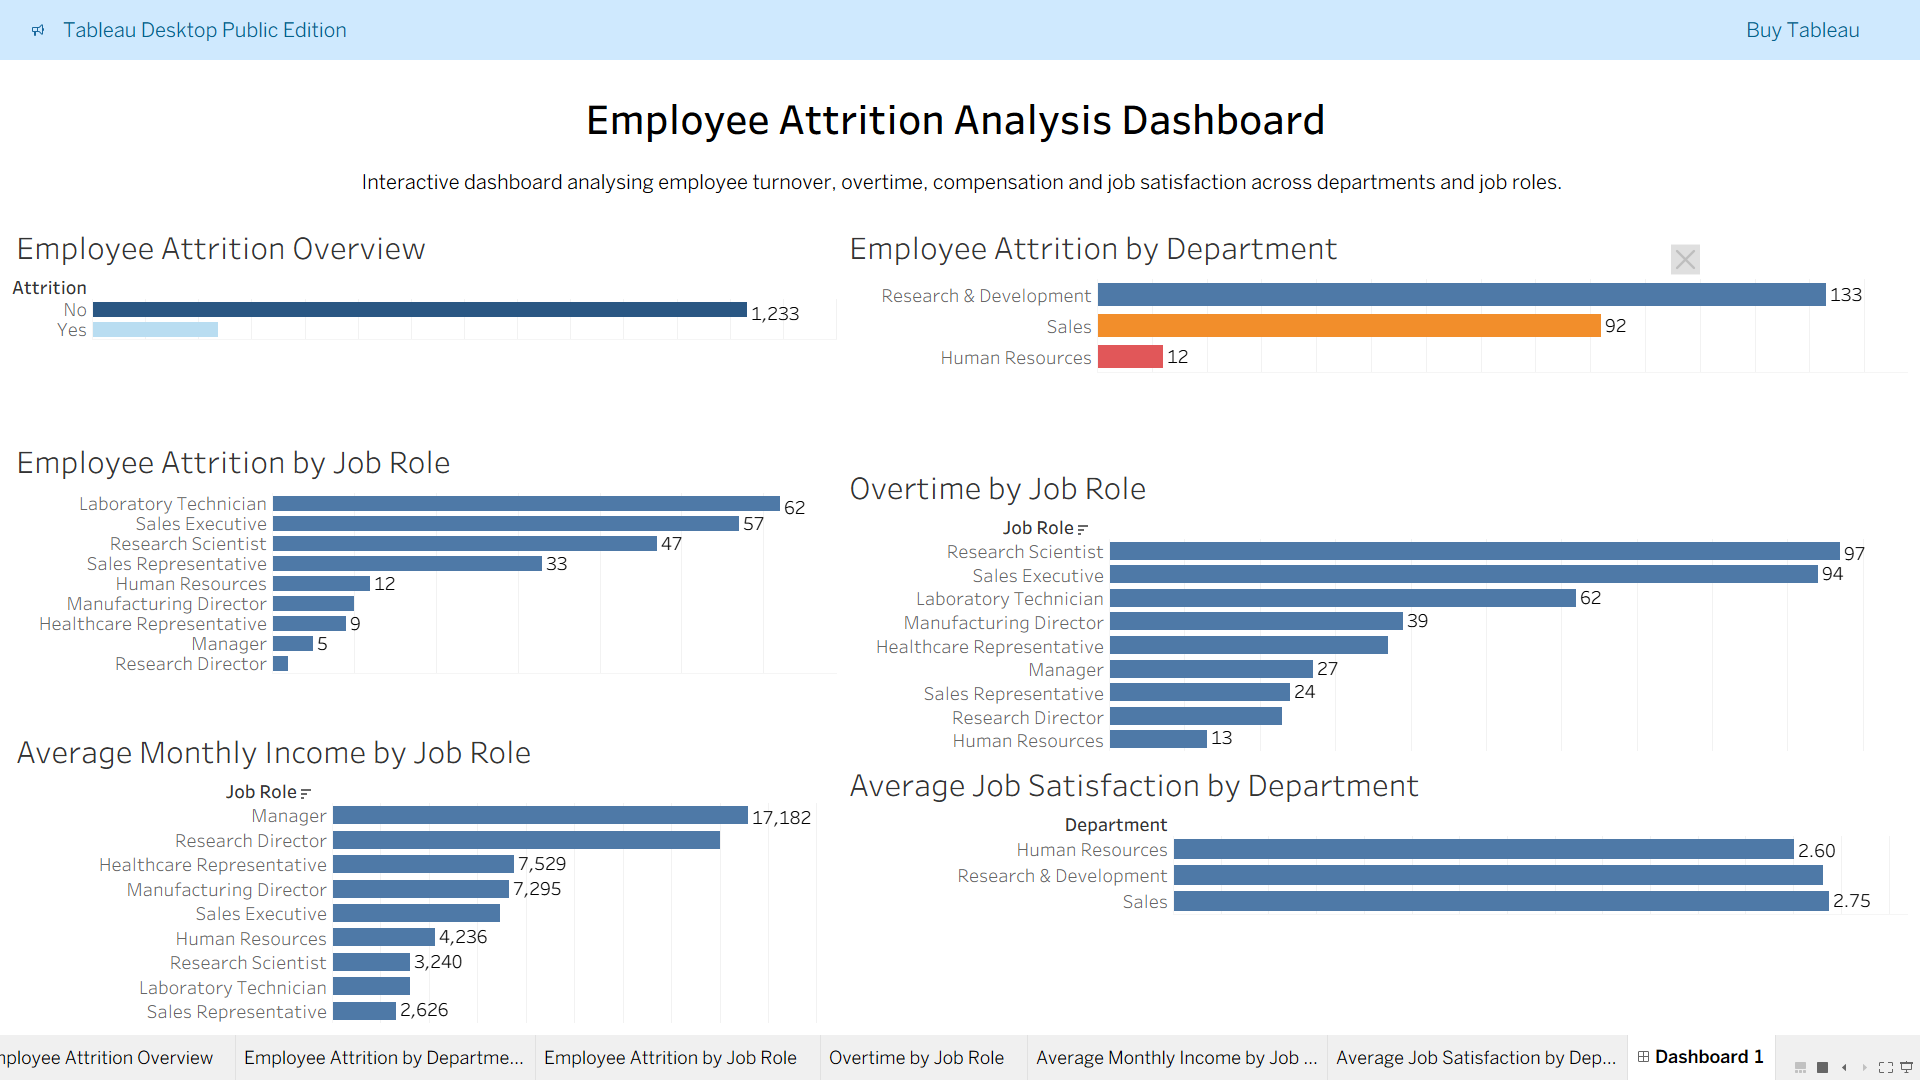

What the dashboard file says about the page in this screenshot:
{"tool":"tableau","page":{"name":"Dashboard 1","canvas":[1000,1000],"units":"permille","ordinal":0},"visuals":[{"type":"text","box":[4.2,8.2,991.7,153.7]},{"type":"worksheet","title":"Employee Attrition Overview","mark":"Automatic","rows":["Attrition"],"cols":["EmployeeCount"],"box":[4.2,161.9,433.9,219.1]},{"type":"worksheet","title":"Employee Attrition by Department","mark":"Automatic","rows":["Department"],"cols":["EmployeeCount"],"box":[438.1,161.9,557.7,246]},{"type":"dashboard-object","box":[870.3,188.7,15,31.7]},{"type":"worksheet","title":"Employee Attrition by Job Role","mark":"Automatic","rows":["JobRole"],"cols":["EmployeeCount"],"box":[4.2,381.1,433.9,297.5]},{"type":"worksheet","title":"Overtime by Job Role ","mark":"Automatic","rows":["JobRole"],"cols":["EmployeeCount"],"box":[438.1,407.9,557.7,305.3]},{"type":"worksheet","title":"Average Monthly Income by Job Role","mark":"Automatic","rows":["JobRole"],"cols":["MonthlyIncome"],"box":[4.2,678.6,433.9,313.2]},{"type":"worksheet","title":"Average Job Satisfaction by Department","mark":"Automatic","rows":["Department"],"cols":["JobSatisfaction"],"box":[438.1,713.3,557.7,278.5]}]}

Visuals, with their boxes on the dashboard's canvas, which has no fixed pixel size, in thousandths of its width and height (x1, y1, x2, y2). These are canvas units, not pixel positions in the 1920x1080 screenshot, which may show the page scaled, cropped or inside an application window:
text: rect(4, 8, 996, 162)
"Employee Attrition Overview" worksheet: rect(4, 162, 438, 381)
"Employee Attrition by Department" worksheet: rect(438, 162, 996, 408)
dashboard-object: rect(870, 189, 885, 220)
"Employee Attrition by Job Role" worksheet: rect(4, 381, 438, 679)
"Overtime by Job Role " worksheet: rect(438, 408, 996, 713)
"Average Monthly Income by Job Role" worksheet: rect(4, 679, 438, 992)
"Average Job Satisfaction by Department" worksheet: rect(438, 713, 996, 992)
